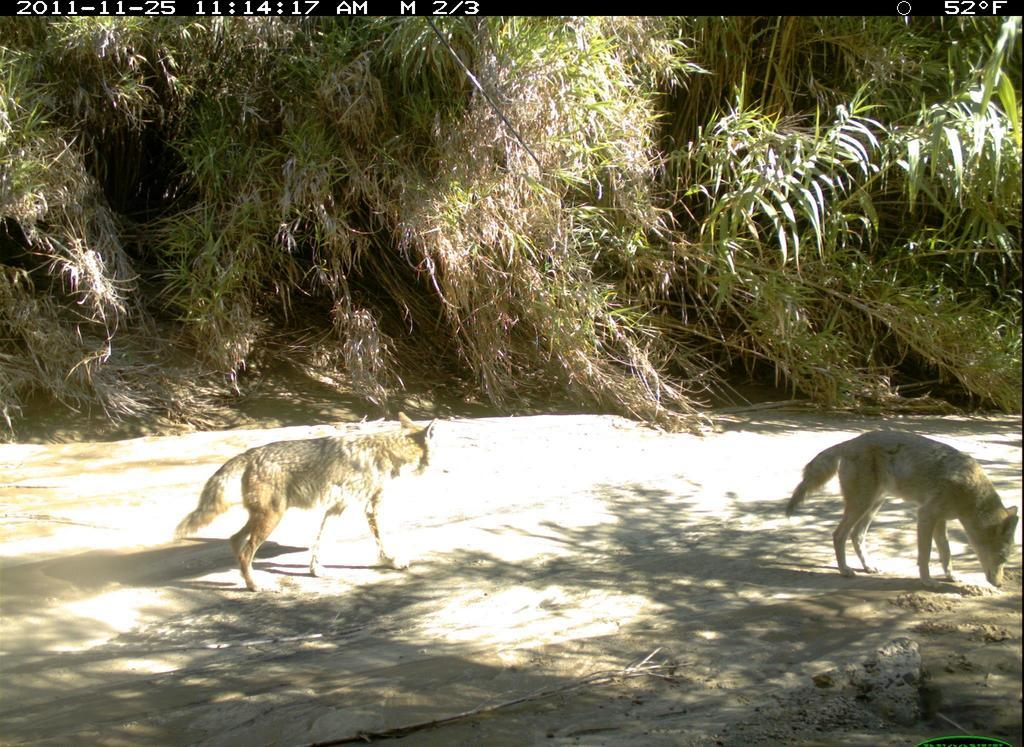coyote: (163, 405, 465, 606), (766, 410, 1022, 612)
